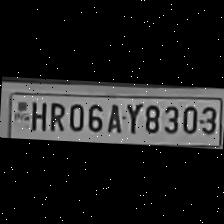0: (64, 98, 86, 132), (178, 100, 198, 134)
3: (160, 100, 180, 134), (198, 100, 218, 134)
6: (84, 98, 104, 132)
8: (139, 100, 161, 134)
A: (102, 99, 124, 134)
H: (26, 96, 48, 132)
R: (46, 97, 66, 132)
Y: (122, 98, 140, 134)
